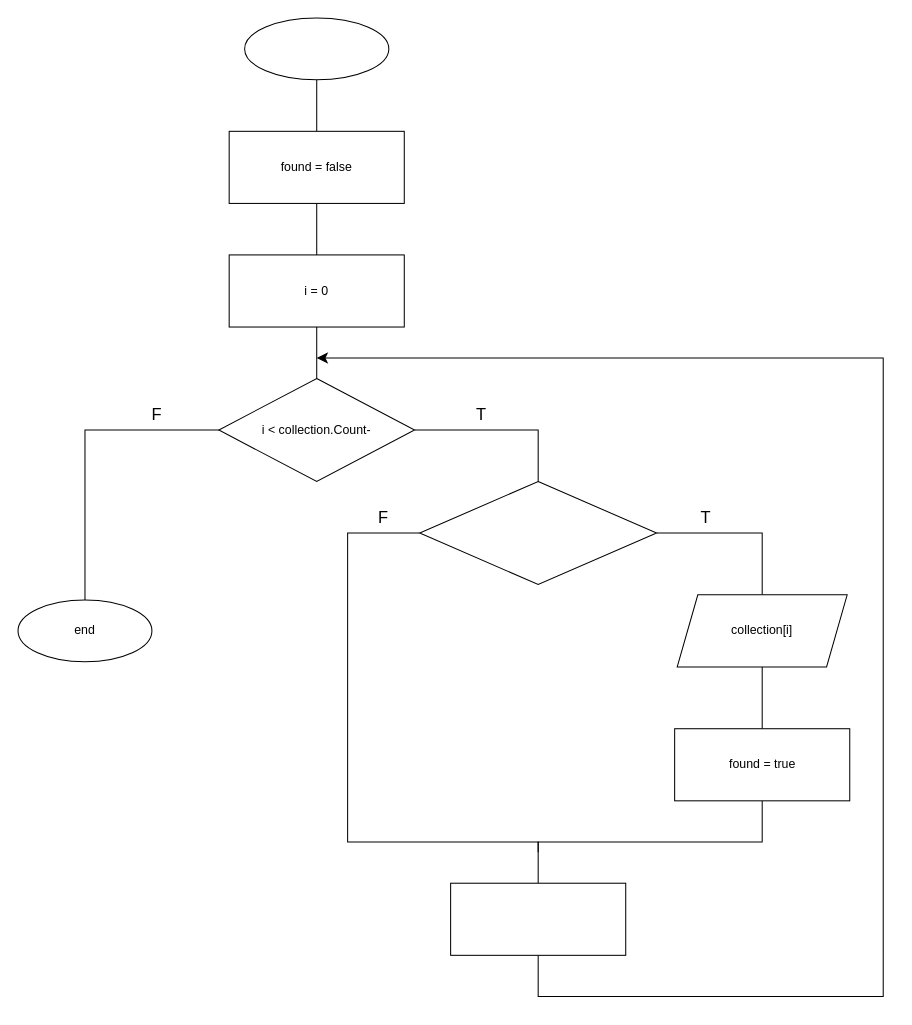
The diagram is 912 pixels wide and 1025 high, and some of its shapes have lost their labels. The centre of each missing label's shape, as x and y in pixels:
"collection[i].BaggageWeight > 20.0" belongs at point (538, 532).
"i++" belongs at point (538, 918).
"start" belongs at point (316, 48).
